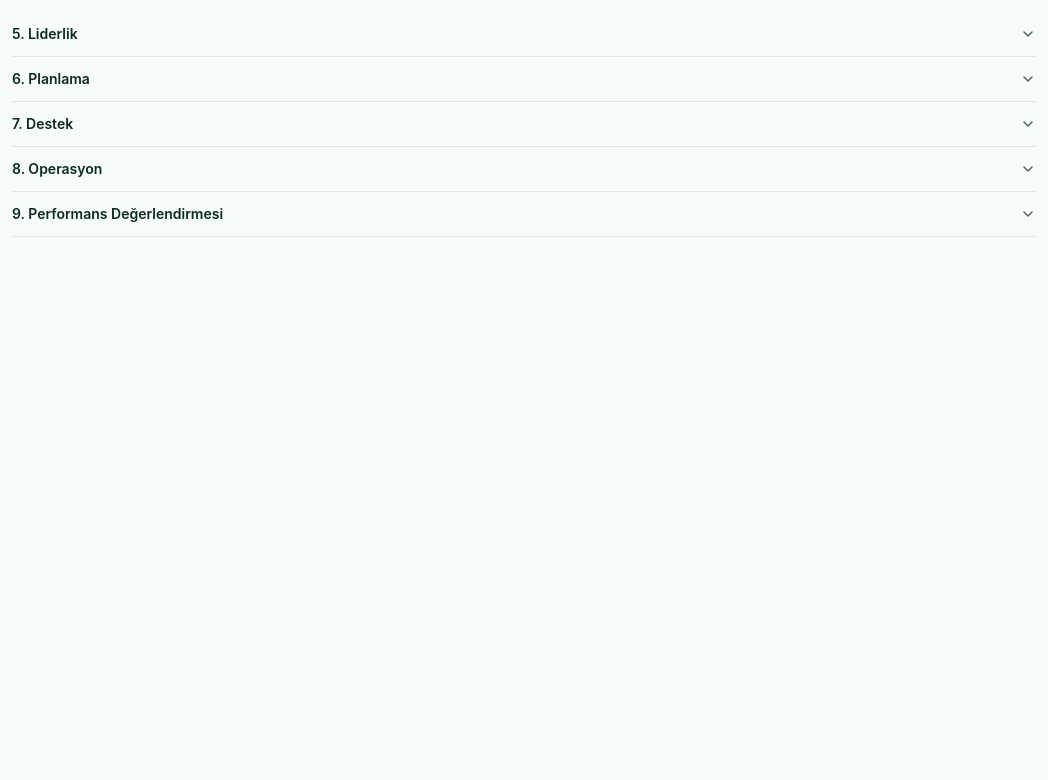
ChecklistView › shows each main clause, and inside it every sub-clause with its full text (R345)
Click the button "5. Liderlik" at (45, 34), box 12,12 -> 1036,56
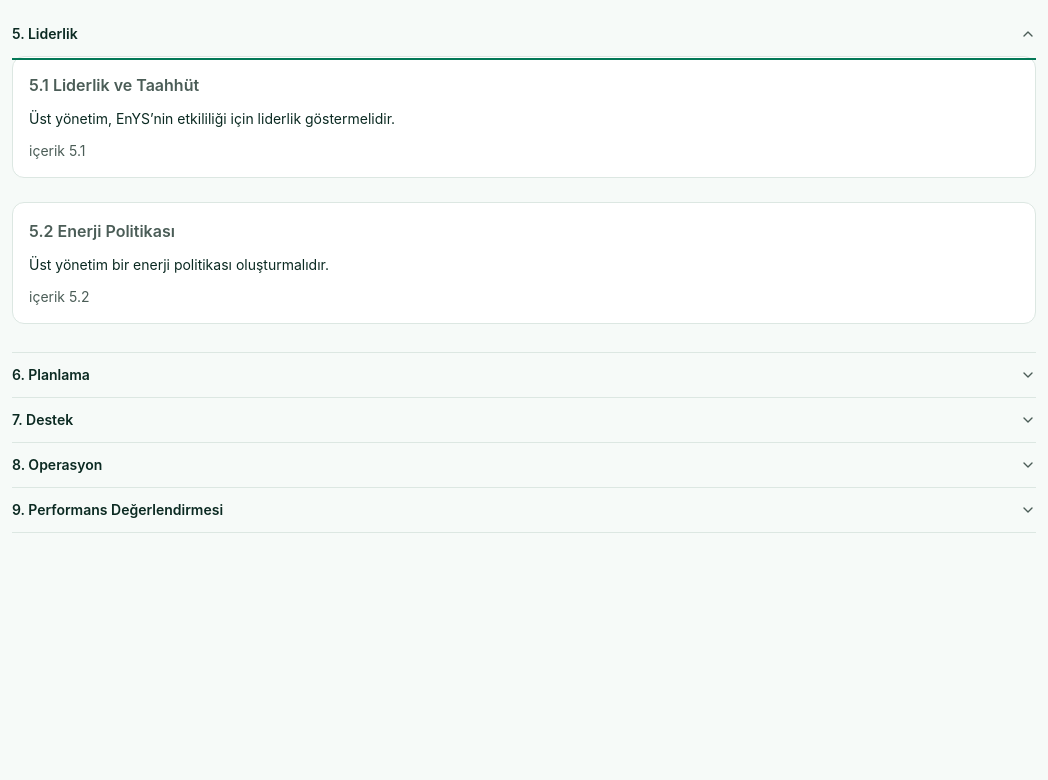
Expected: the heading "5.1 Liderlik ve Taahhüt" is shown, 29,75 -> 199,95
Expected: the text "Üst yönetim, EnYS’nin etkililiği için liderlik göstermelidir." is shown, 29,110 -> 395,127
Expected: the text "içerik 5.2" is shown, 29,288 -> 90,305
